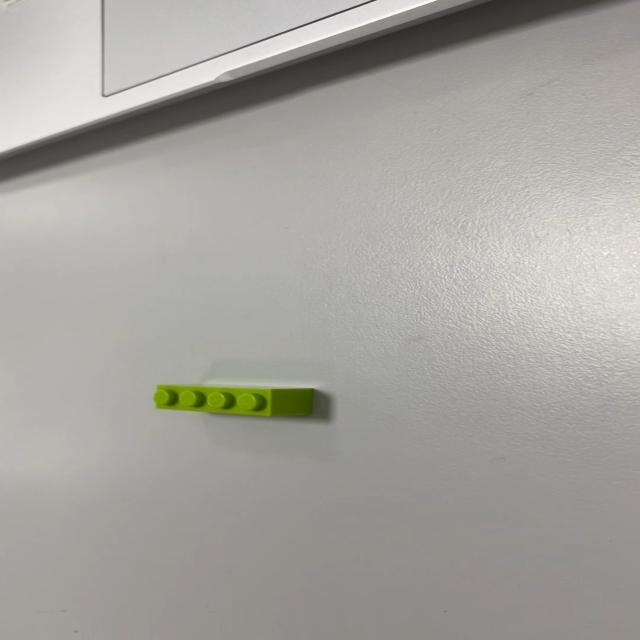C4x1x1: (152, 384, 314, 417)
